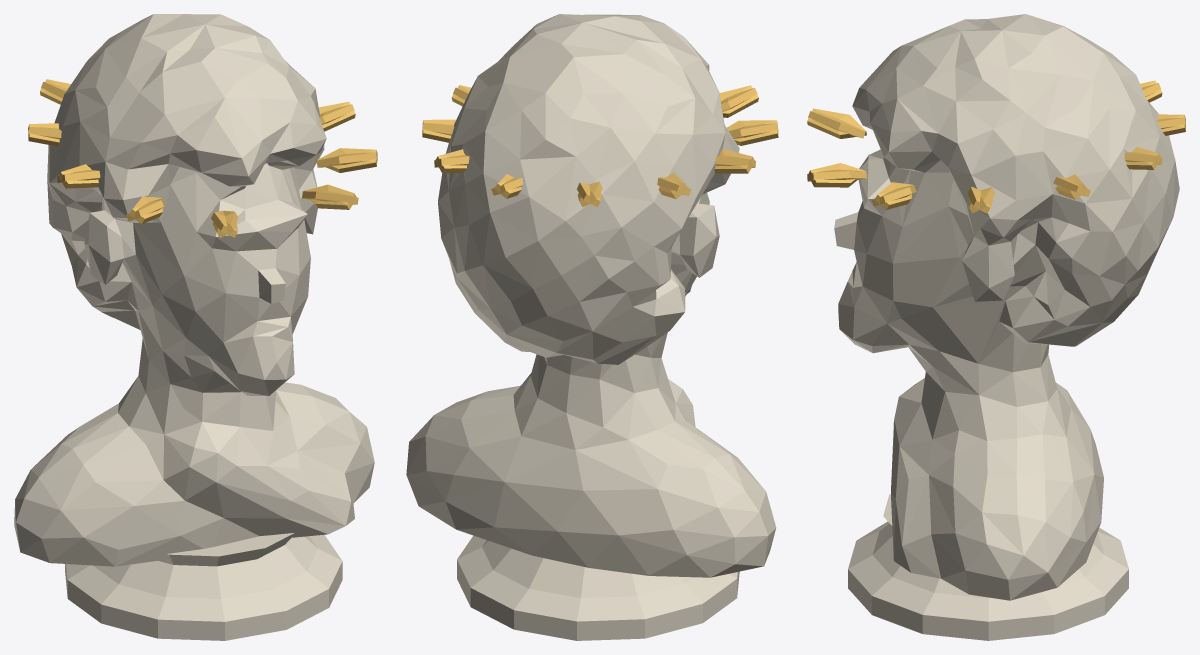
File: busto_emperador.glb
3 renders of one model, left to right at view 1: azimuth 30°, elevation 25°; view 2: azimuth 150°, elevation 25°; view 3: azimuth 270°, elevation 25°, orthographic.
Visible parts, largest first — view 1: busto_emperador; view 2: busto_emperador; view 3: busto_emperador.
Boxes of the visible parts, <box> form: busto_emperador: <box>14,14,377,640</box>; busto_emperador: <box>406,14,778,640</box>; busto_emperador: <box>807,14,1185,640</box>.
Size of the model in its own units: 0.2316 by 0.3466 by 0.2141.
